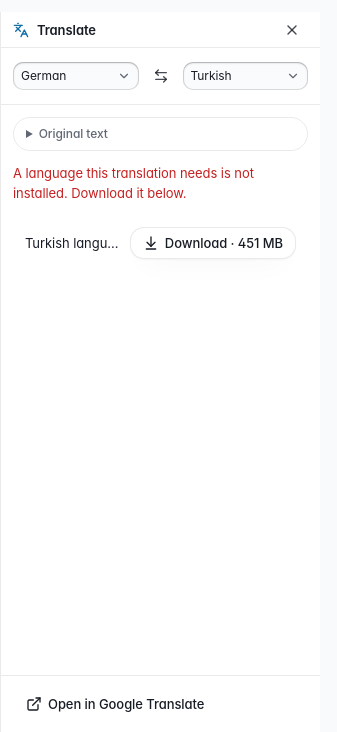
Test: TranslatePanel › offers the missing language pack inline and translates once it is installed
Check: the text "A language this translation needs is not installed. Download it below." is shown, box [13,165,254,201]
Check: the text "Turkish language pack" is shown, box [25,233,122,253]
Click the button "Download · 451 MB" at (213, 243), box [130,227,296,259]
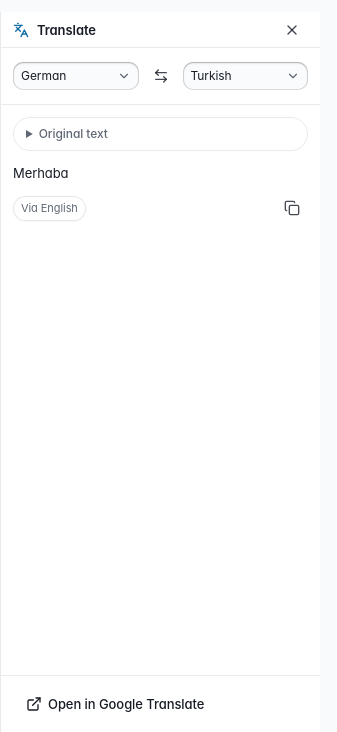
Check: the text "Merhaba" is shown, box [13,165,68,181]
